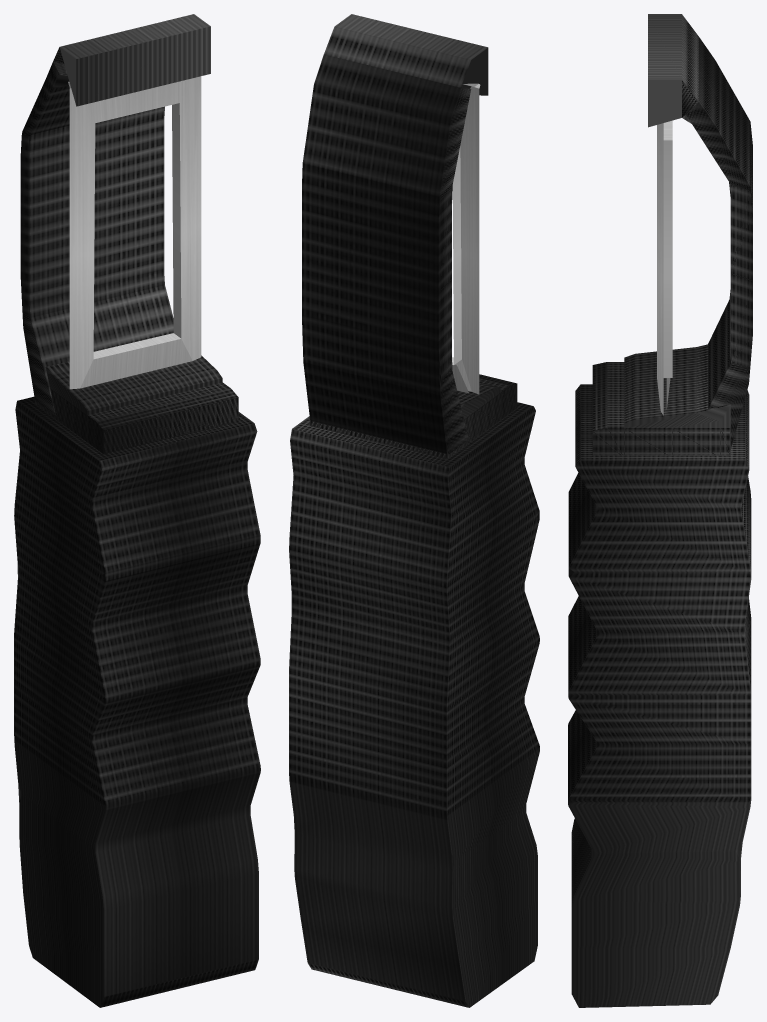
Rendered from potato peeler.fbx.
3 views of the same model, side by side, from view 1: azimuth 30°, elevation 25°; view 2: azimuth 150°, elevation 25°; view 3: azimuth 270°, elevation 25° (orthographic).
Parts seen in each view (by area): view 1: Cube.001, Cube.004, Cube.002, Cube.003; view 2: Cube.001, Cube.004, Cube.002, Cube.003; view 3: Cube.001, Cube.004, Cube.003, Cube.002.
Part boxes in pixels (x1,y1,x2,y2): Cube.001: (14,396,260,1007); Cube.004: (20,14,210,415); Cube.002: (68,76,201,389); Cube.003: (34,355,238,454); Cube.001: (289,402,539,1007); Cube.004: (302,14,488,454); Cube.002: (452,83,480,394); Cube.003: (309,374,517,459); Cube.001: (568,384,751,1007); Cube.004: (648,14,752,449); Cube.003: (592,344,730,455); Cube.002: (657,120,672,415).
Bounding box in the file's own units: 160 × 890 × 162.
